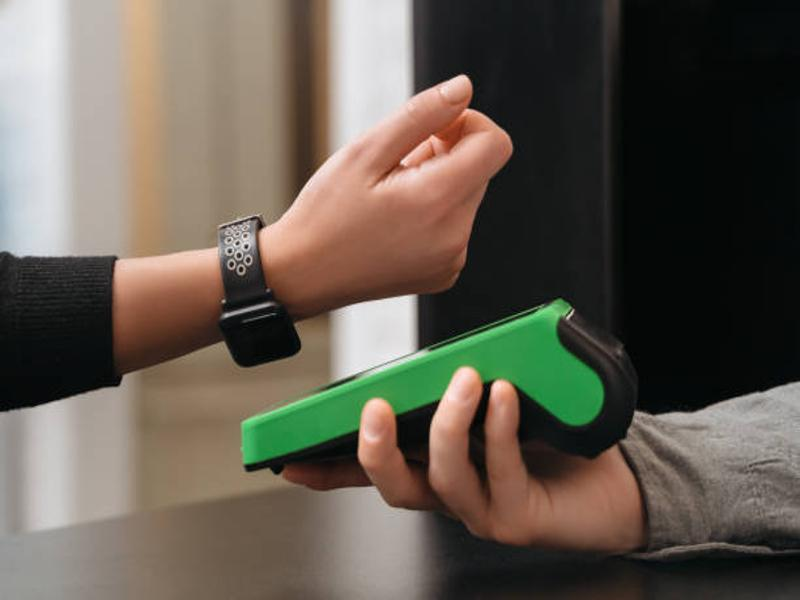watch: (214, 211, 303, 369)
